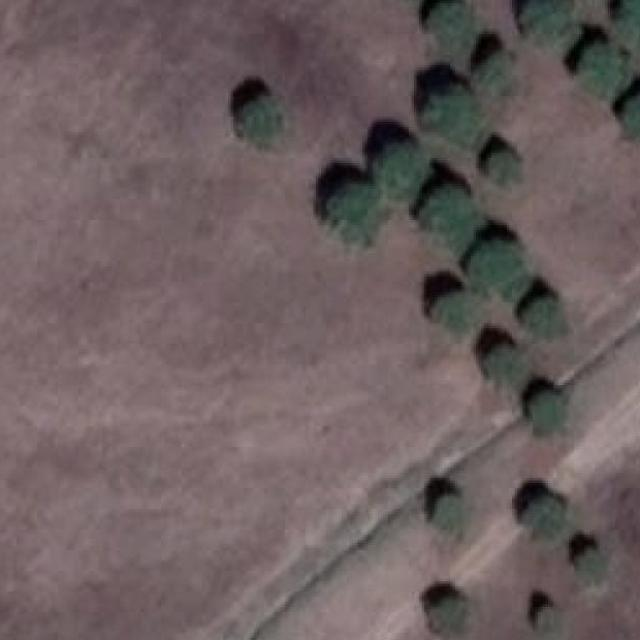Tree: (321, 178, 386, 248), (470, 236, 530, 300), (371, 140, 425, 202), (424, 86, 479, 140), (422, 184, 474, 238), (231, 96, 283, 148), (577, 42, 629, 94), (517, 490, 569, 540), (522, 295, 569, 350), (432, 0, 479, 51), (427, 287, 479, 333), (525, 0, 580, 42), (484, 341, 531, 390), (429, 594, 468, 636), (483, 148, 522, 189), (528, 390, 566, 432), (479, 49, 513, 91), (434, 494, 470, 530), (620, 0, 640, 50), (577, 545, 601, 581), (536, 604, 562, 633), (625, 93, 640, 135)
